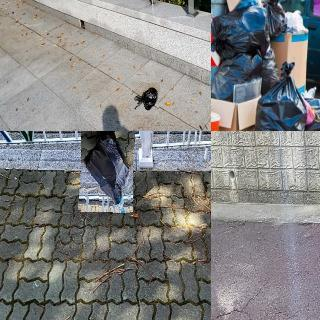Garbage: (79, 131, 134, 212), (254, 61, 311, 131), (211, 4, 268, 55), (211, 53, 256, 101), (257, 0, 290, 38), (130, 83, 160, 115), (303, 98, 320, 131)
